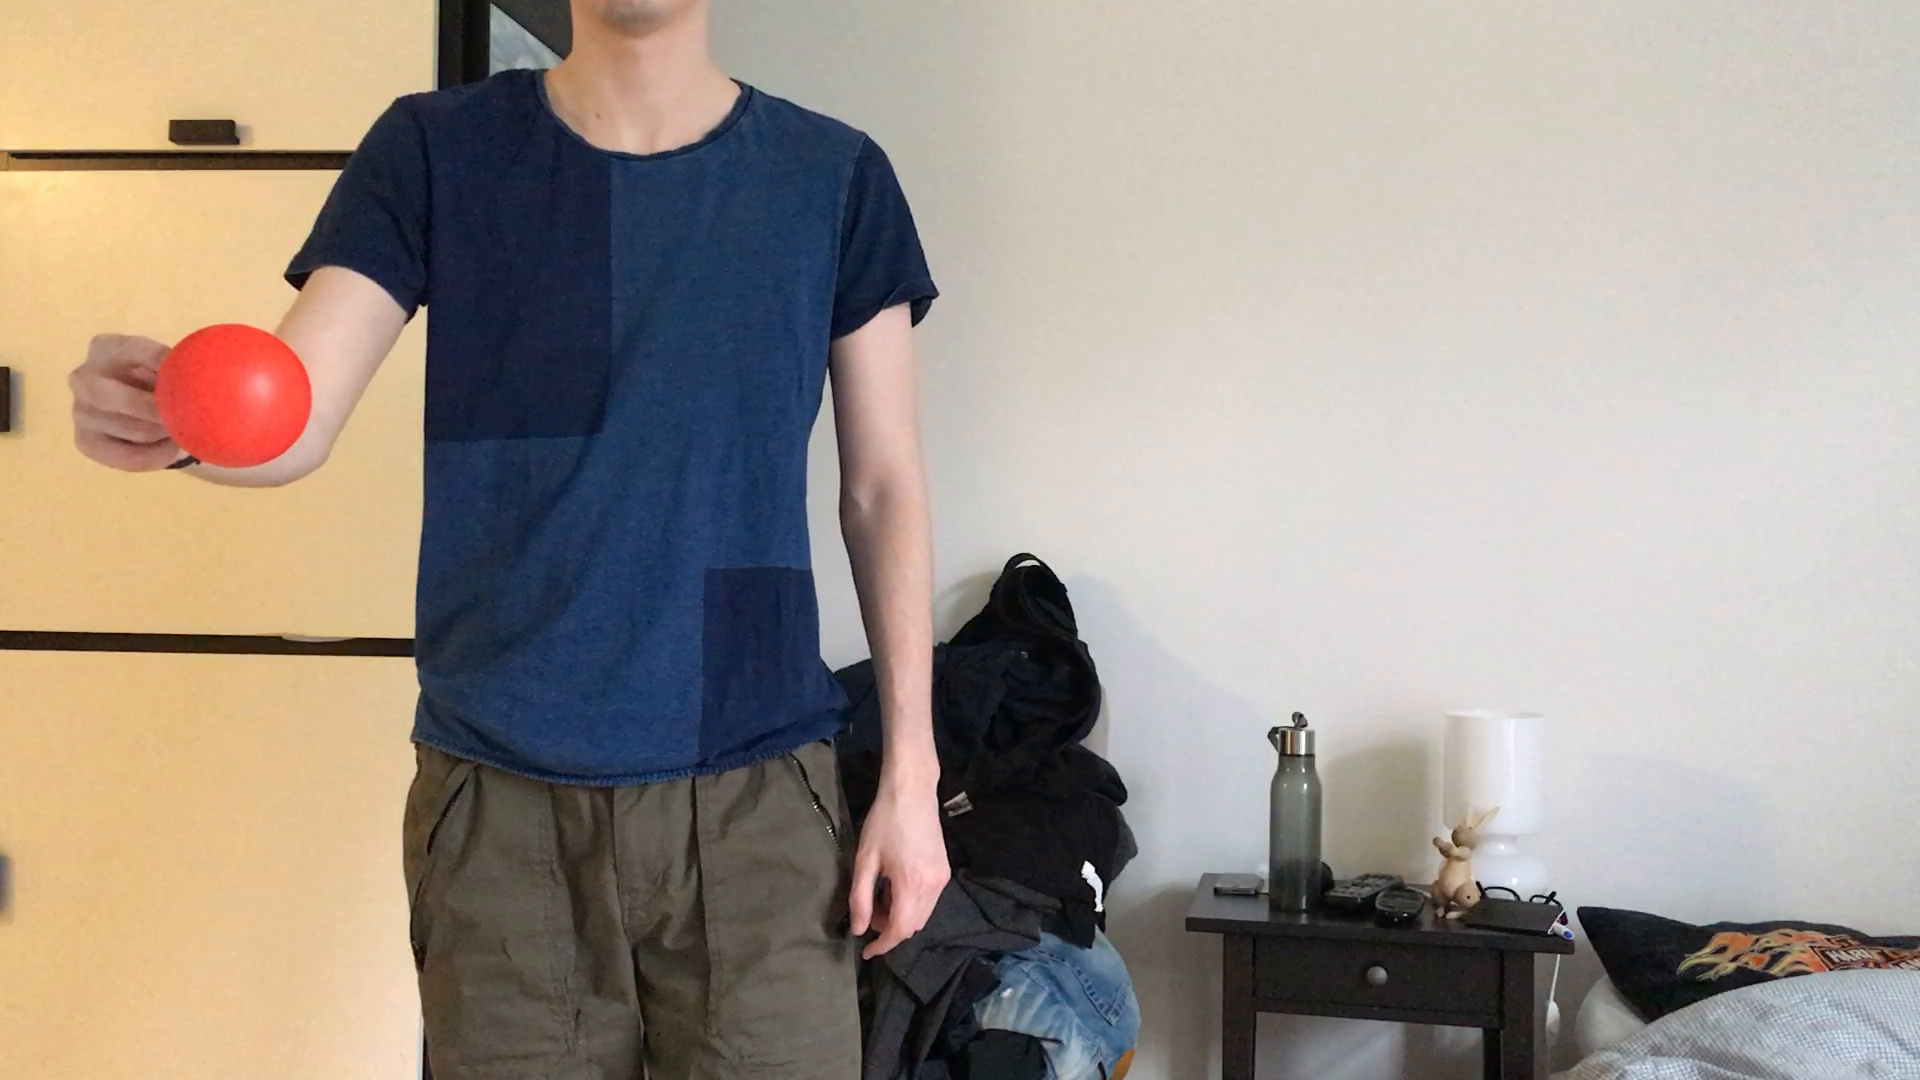Ball: (158, 322, 315, 463)
